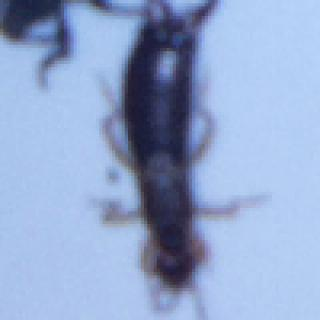earwig: (90, 1, 271, 320)
